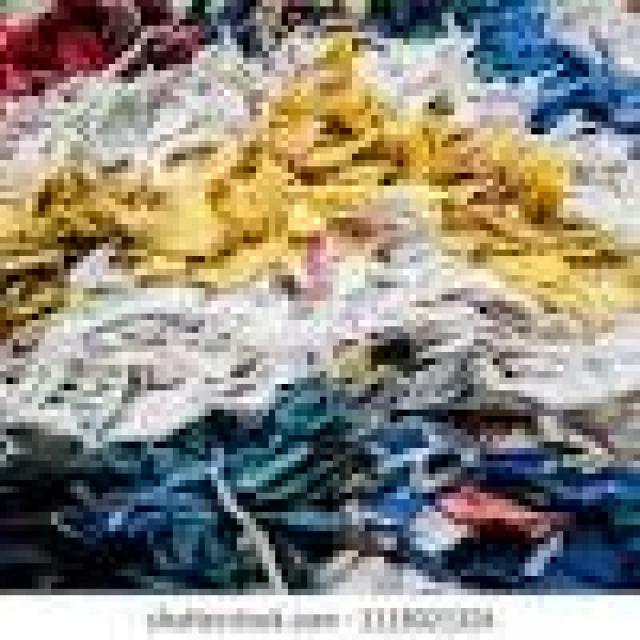Clothes -Biodegradable-: (0, 0, 640, 595)
